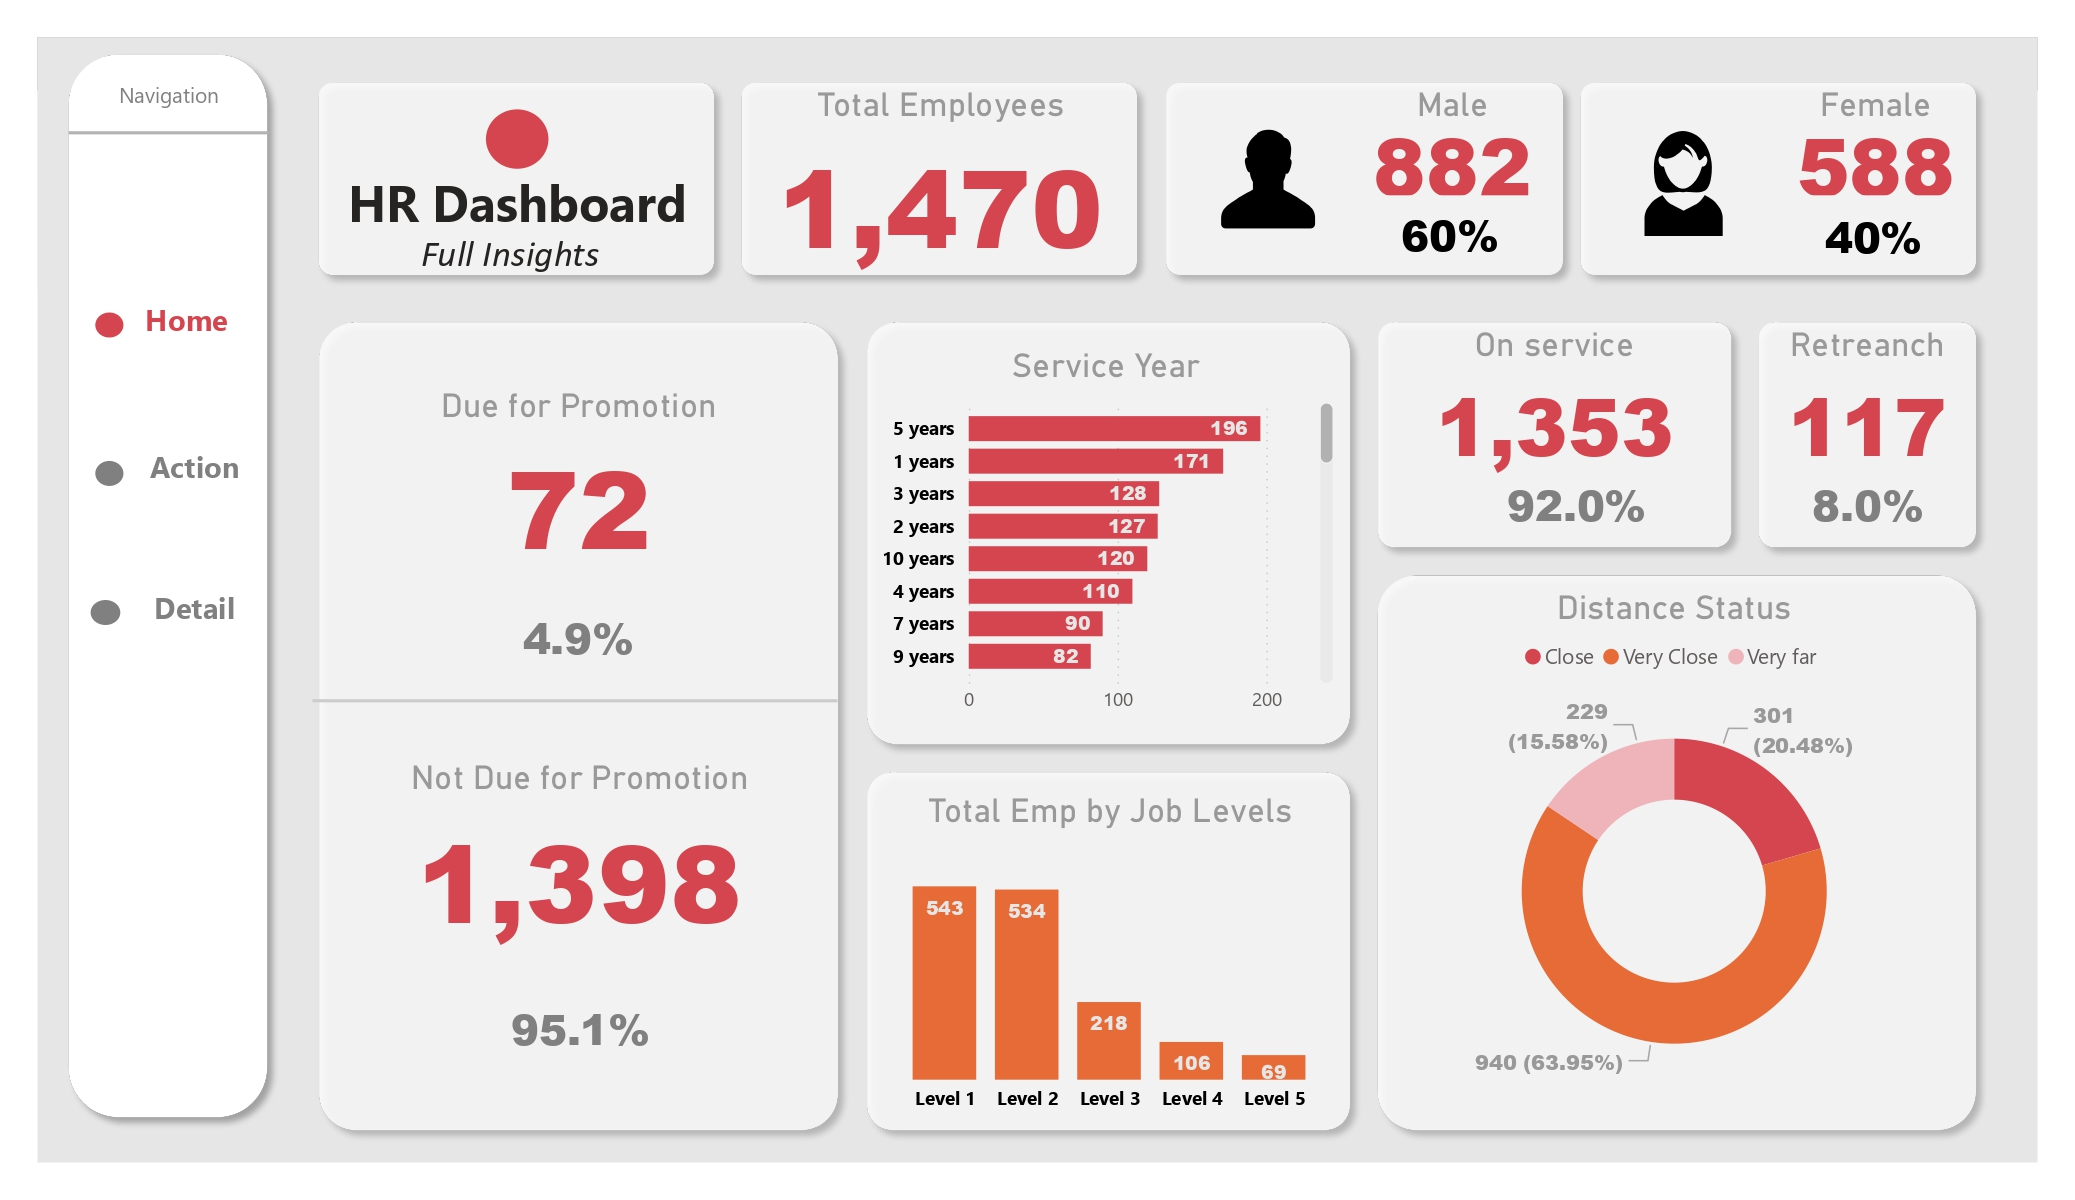

Layout of this report page (visuals, bound fields, positions):
{"tool":"powerbi","page":{"name":"Home","canvas":[1280,720],"ordinal":0},"visuals":[{"type":"shape","box":[171.2,20,271.1,141.3],"z":0},{"type":"shape","box":[11.5,2.3,144.8,697.7],"z":1000},{"type":"shape","box":[442.4,20,271.1,141.3],"z":2000},{"type":"shape","box":[713.5,20,271.1,141.3],"z":3000},{"type":"shape","box":[978.9,20,271.1,141.3],"z":4000},{"type":"shape","box":[171.2,172.7,349.6,535.1],"z":5000},{"type":"shape","box":[522.3,172.7,326.8,288.2],"z":6000},{"type":"shape","box":[522.3,460.9,326.8,246.9],"z":7000},{"type":"shape","box":[849.1,172.7,244,162.7],"z":8000},{"type":"shape","box":[1093.1,172.7,157,162.7],"z":9000},{"type":"shape","box":[849.1,335.3,401,372.4],"z":10000},{"type":"textbox","box":[176.9,78.5,259.7,54.2],"z":11000},{"type":"textbox","box":[172.7,118.4,259.7,40],"z":12000},{"type":"shape","box":[286.8,45.7,40,38.5],"z":13000},{"type":"card","title":"Total Employees","fields":{"Values":["All Measures.Total Emp"]},"box":[455.2,30,245.4,124.1],"z":14000},{"type":"card","title":"Male","fields":{"Values":["All Measures.Male"]},"box":[839.1,30,132.7,75.6],"z":15000},{"type":"card","title":"Male","fields":{"Values":["All Measures.% Male"]},"box":[847.6,101.3,112.7,51.4],"z":16000},{"type":"card","title":"Female","fields":{"Values":["All Measures.Female"]},"box":[1110.2,30,132.7,75.6],"z":17000},{"type":"card","title":"Male","fields":{"Values":["All Measures.% Female"]},"box":[1119.4,103,111.9,50.7],"z":18000},{"type":"image","box":[736.3,57.1,102.7,67.1],"z":19000},{"type":"image","box":[997.5,59.9,112.7,67.1],"z":20000},{"type":"card","title":"Due for Promotion","fields":{"Values":["All Measures.Due for promotion"]},"box":[224,222.6,245.4,124.1],"z":21000},{"type":"card","title":"Male","fields":{"Values":["All Measures.Due for Promotion %"]},"box":[289.7,359.6,112.7,51.4],"z":22000},{"type":"card","title":"Not Due for Promotion","fields":{"Values":["All Measures.Not Due"]},"box":[223.9,461.2,246.3,125.4],"z":23000},{"type":"card","title":"Male","fields":{"Values":["All Measures.Not Due %"]},"box":[291,610.4,113.4,50.7],"z":24000},{"type":"shape","box":[176.1,417.9,335.8,13.4],"z":25000},{"type":"clusteredBarChart","title":"Service Year","fields":{"Category":["HR Analytics Data.Service Year"],"Y":["All Measures.Total Emp"]},"box":[534.3,197,300,244.8],"z":26000},{"type":"columnChart","fields":{"Category":["HR Analytics Data.Job Levels"],"Y":["All Measures.Total Emp"]},"box":[534.3,482.1,304.5,214.9],"z":27000},{"type":"card","title":"On service","fields":{"Values":["All Measures.On Service"]},"box":[864.2,183.6,213.4,101.5],"z":28000},{"type":"card","title":"Male","fields":{"Values":["All Measures.% On Service"]},"box":[910.4,274.6,149.3,50.7],"z":29000},{"type":"card","title":"Retreanch","fields":{"Values":["All Measures.Will be Retreanched"]},"box":[1095.5,183.6,150.7,101.5],"z":30000},{"type":"card","title":"Male","fields":{"Values":["All Measures.% Will be Retreanched"]},"box":[1106,274.6,131.3,50.7],"z":31000},{"type":"donutChart","title":"Distance Status","fields":{"Category":["HR Analytics Data.Distance Status"],"Y":["All Measures.Total Emp"]},"box":[864.2,352.2,367.2,335.8],"z":32000},{"type":"textbox","box":[19.5,23,128.7,46],"z":33000},{"type":"shape","box":[19.5,54,128.7,13.8],"z":34000},{"type":"shape","box":[36.8,175.9,18.4,16.1],"z":35000},{"type":"textbox","box":[55.2,163.2,80.5,42.5],"z":36000},{"type":"textbox","box":[52.9,257.5,95.4,42.5],"z":37000},{"type":"shape","box":[36.8,271.3,18.4,16.1],"z":38000},{"type":"shape","box":[34.5,359.8,18.4,16.1],"z":39000},{"type":"textbox","box":[52.9,347.1,95.4,42.5],"z":40000},{"type":"actionButton","box":[19.5,254,128.7,44.8],"z":41000},{"type":"actionButton","box":[19.5,344.8,128.7,44.8],"z":42000}]}

Visuals, with their boxes on the page's 1280x720 design canvas (x1, y1, x2, y2). These are canvas units, not pixel positions in the 2075x1200 screenshot, which may show the page scaled, cropped or inside an application window:
shape: BBox(171, 20, 442, 161)
shape: BBox(12, 2, 156, 700)
shape: BBox(442, 20, 714, 161)
shape: BBox(714, 20, 985, 161)
shape: BBox(979, 20, 1250, 161)
shape: BBox(171, 173, 521, 708)
shape: BBox(522, 173, 849, 461)
shape: BBox(522, 461, 849, 708)
shape: BBox(849, 173, 1093, 335)
shape: BBox(1093, 173, 1250, 335)
shape: BBox(849, 335, 1250, 708)
textbox: BBox(177, 78, 437, 133)
textbox: BBox(173, 118, 432, 158)
shape: BBox(287, 46, 327, 84)
"Total Employees" card: BBox(455, 30, 701, 154)
"Male" card: BBox(839, 30, 972, 106)
"Male" card: BBox(848, 101, 960, 153)
"Female" card: BBox(1110, 30, 1243, 106)
"Male" card: BBox(1119, 103, 1231, 154)
image: BBox(736, 57, 839, 124)
image: BBox(998, 60, 1110, 127)
"Due for Promotion" card: BBox(224, 223, 469, 347)
"Male" card: BBox(290, 360, 402, 411)
"Not Due for Promotion" card: BBox(224, 461, 470, 587)
"Male" card: BBox(291, 610, 404, 661)
shape: BBox(176, 418, 512, 431)
"Service Year" clusteredBarChart: BBox(534, 197, 834, 442)
columnChart - HR Analytics Data.Job Levels x All Measures.Total Emp: BBox(534, 482, 839, 697)
"On service" card: BBox(864, 184, 1078, 285)
"Male" card: BBox(910, 275, 1060, 325)
"Retreanch" card: BBox(1096, 184, 1246, 285)
"Male" card: BBox(1106, 275, 1237, 325)
"Distance Status" donutChart: BBox(864, 352, 1231, 688)
textbox: BBox(20, 23, 148, 69)
shape: BBox(20, 54, 148, 68)
shape: BBox(37, 176, 55, 192)
textbox: BBox(55, 163, 136, 206)
textbox: BBox(53, 258, 148, 300)
shape: BBox(37, 271, 55, 287)
shape: BBox(34, 360, 53, 376)
textbox: BBox(53, 347, 148, 390)
actionButton: BBox(20, 254, 148, 299)
actionButton: BBox(20, 345, 148, 390)
